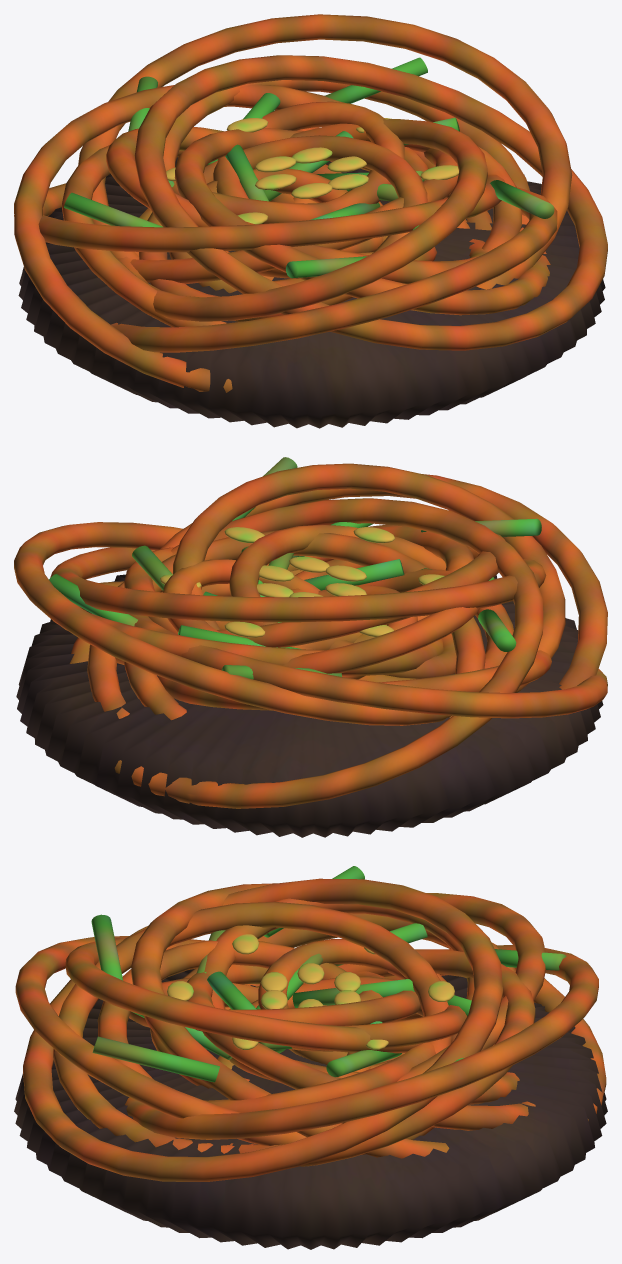
The model's file is hakka-street-chow-mein-high.glb.
3 views of the same model, one above another, from view 1: azimuth 30°, elevation 25°; view 2: azimuth 150°, elevation 25°; view 3: azimuth 270°, elevation 25° (orthographic).
Visible parts, largest first — view 1: Mesh_Hakka_Wok_Noodle_Strands, Mesh_Street_Flared_Wok_Bowl, Mesh_Julienne_Cabbage_And_Peppers, Mesh_Crispy_Garlic_And_Scallions; view 2: Mesh_Hakka_Wok_Noodle_Strands, Mesh_Street_Flared_Wok_Bowl, Mesh_Julienne_Cabbage_And_Peppers, Mesh_Crispy_Garlic_And_Scallions; view 3: Mesh_Hakka_Wok_Noodle_Strands, Mesh_Street_Flared_Wok_Bowl, Mesh_Julienne_Cabbage_And_Peppers, Mesh_Crispy_Garlic_And_Scallions.
Part boxes in pixels (left/top/right/bottom): Mesh_Hakka_Wok_Noodle_Strands: left=14, top=14, right=607, bottom=392; Mesh_Street_Flared_Wok_Bowl: left=18, top=157, right=605, bottom=428; Mesh_Julienne_Cabbage_And_Peppers: left=64, top=57, right=554, bottom=278; Mesh_Crispy_Garlic_And_Scallions: left=166, top=118, right=458, bottom=224; Mesh_Hakka_Wok_Noodle_Strands: left=14, top=463, right=607, bottom=808; Mesh_Street_Flared_Wok_Bowl: left=16, top=574, right=603, bottom=837; Mesh_Julienne_Cabbage_And_Peppers: left=49, top=457, right=541, bottom=679; Mesh_Crispy_Garlic_And_Scallions: left=160, top=527, right=444, bottom=637; Mesh_Hakka_Wok_Noodle_Strands: left=15, top=878, right=606, bottom=1181; Mesh_Street_Flared_Wok_Bowl: left=14, top=969, right=607, bottom=1249; Mesh_Julienne_Cabbage_And_Peppers: left=91, top=866, right=566, bottom=1082; Mesh_Crispy_Garlic_And_Scallions: left=167, top=934, right=454, bottom=1049.
Size of the model in its own units: 2.2 by 0.9778 by 2.14.
Materials: 4 (4 with a texture image).
